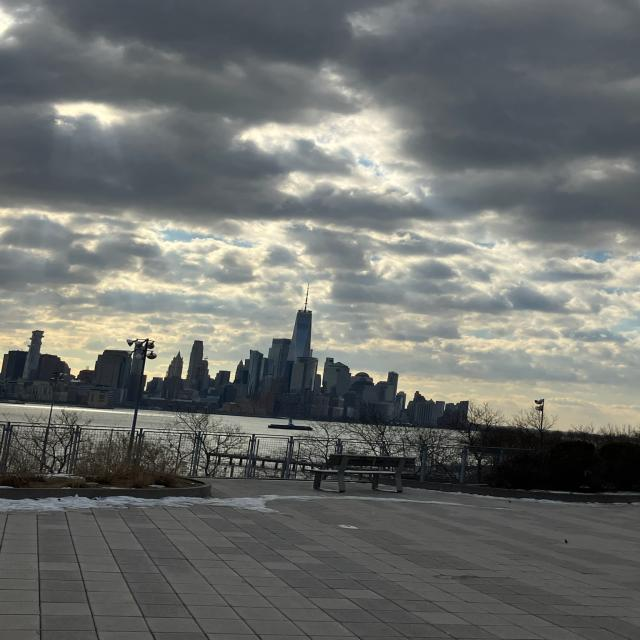WTC: (289, 282, 313, 358)
